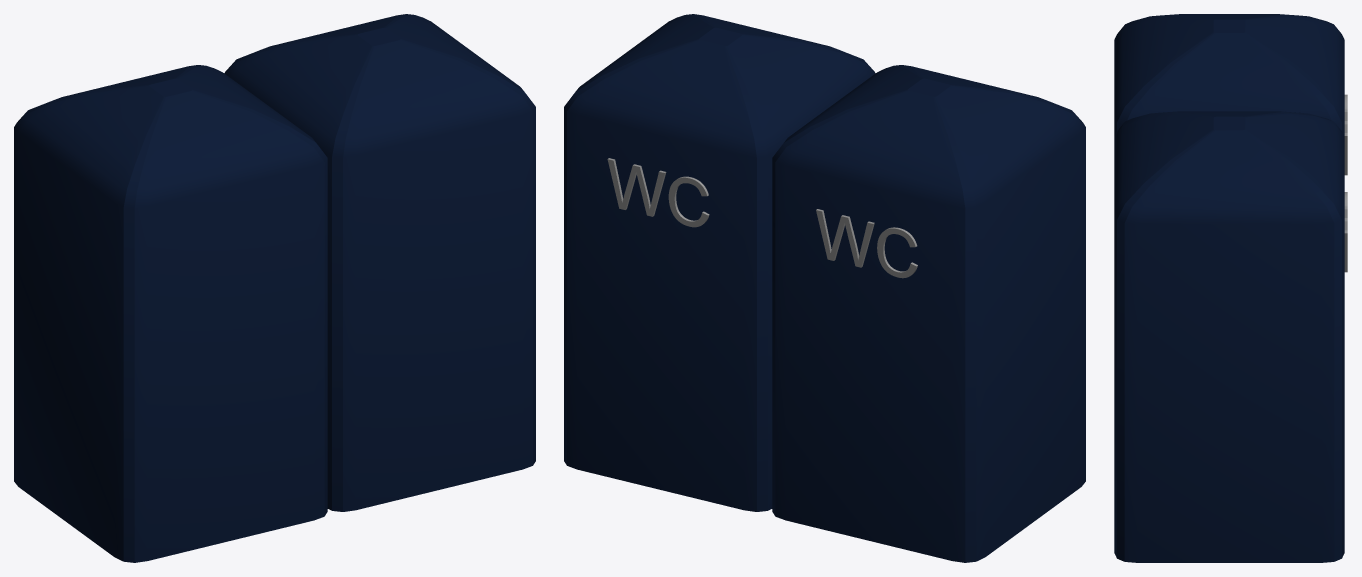
Rendered from Toilets.FBX.
The picture shows the model from 3 angles, left to right: view 1: azimuth 30°, elevation 25°; view 2: azimuth 150°, elevation 25°; view 3: azimuth 270°, elevation 25°; orthographic projection. The views are drawn at different scales.
Visible parts, largest first — view 1: Toilet (×2); view 2: Toilet (×2); view 3: Toilet (×2).
Part boxes in pixels (x1,y1,x2,y2): Toilet (×2): (14,14,535,562); Toilet (×2): (564,14,1085,562); Toilet (×2): (1114,14,1347,562).
Bounding box in the file's own units: 2.03 × 1.9 × 1.03.
